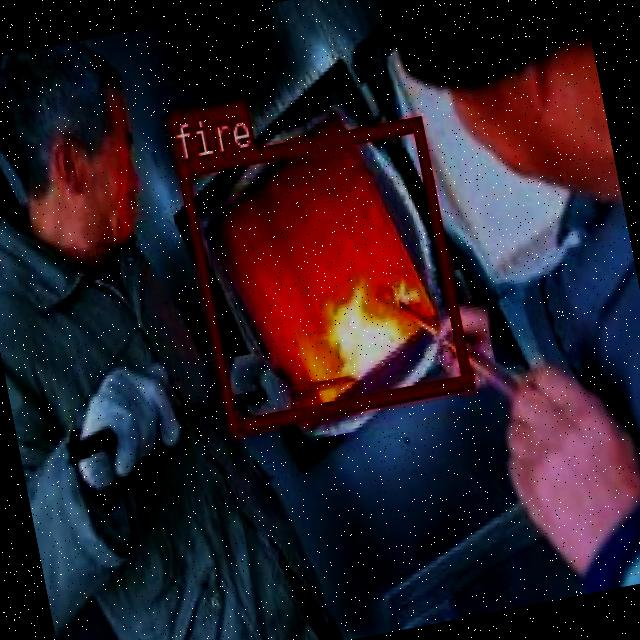fire: (175, 115, 470, 433)
